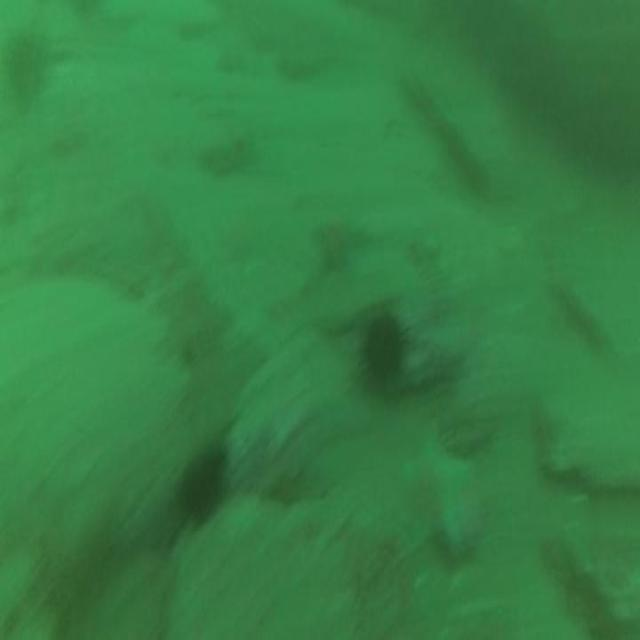echinus: (172, 435, 230, 531), (362, 304, 405, 396)
